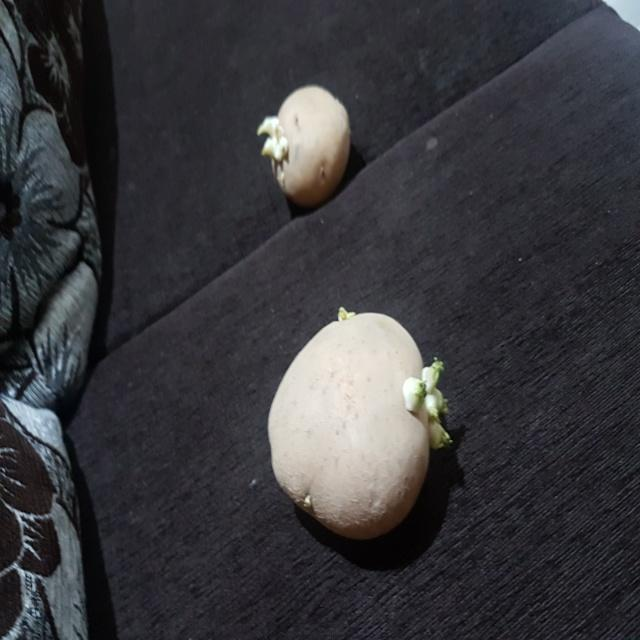potato: (252, 304, 464, 552), (252, 82, 372, 207)
